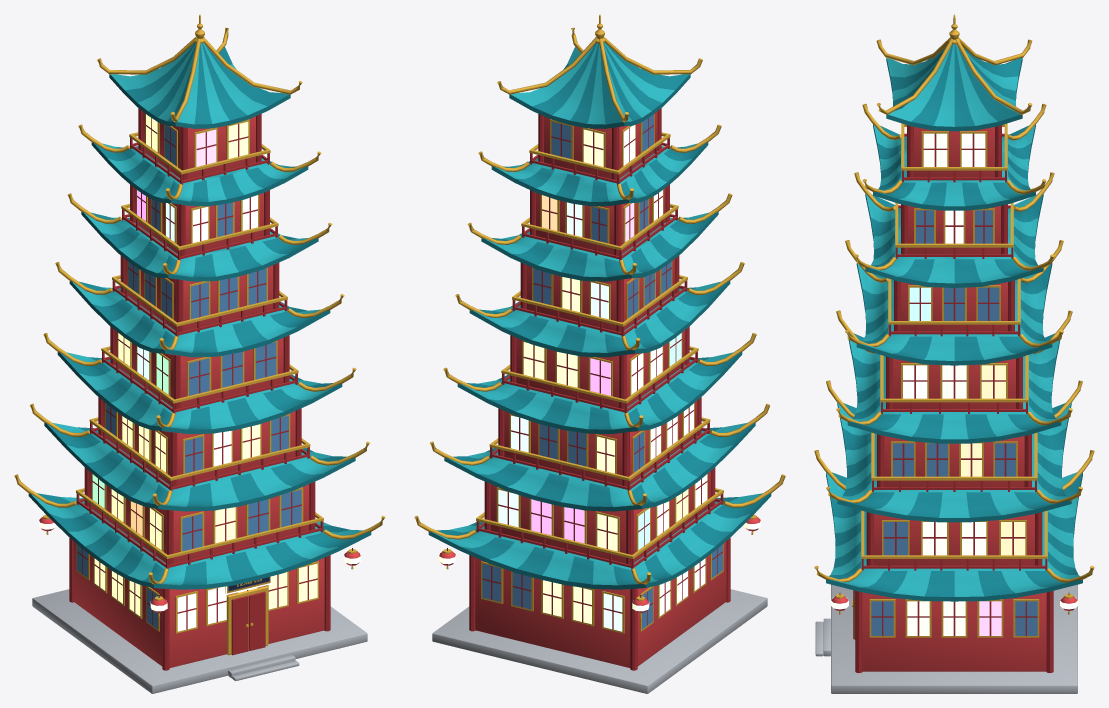
The model's file is pagode_alto_7_jade.glb.
3 renders of one model, left to right at view 1: azimuth 30°, elevation 25°; view 2: azimuth 150°, elevation 25°; view 3: azimuth 270°, elevation 25°, orthographic. The views are drawn at different scales.
Visible parts, largest first — view 1: pagode_alto_7_jade; view 2: pagode_alto_7_jade; view 3: pagode_alto_7_jade.
Part boxes in pixels (<box>): pagode_alto_7_jade: <box>14,14,385,693</box>; pagode_alto_7_jade: <box>414,14,785,693</box>; pagode_alto_7_jade: <box>814,14,1094,693</box>.
Size of the model in its own units: 12.46 by 30.77 by 12.48.
9 materials, 2 textured.
